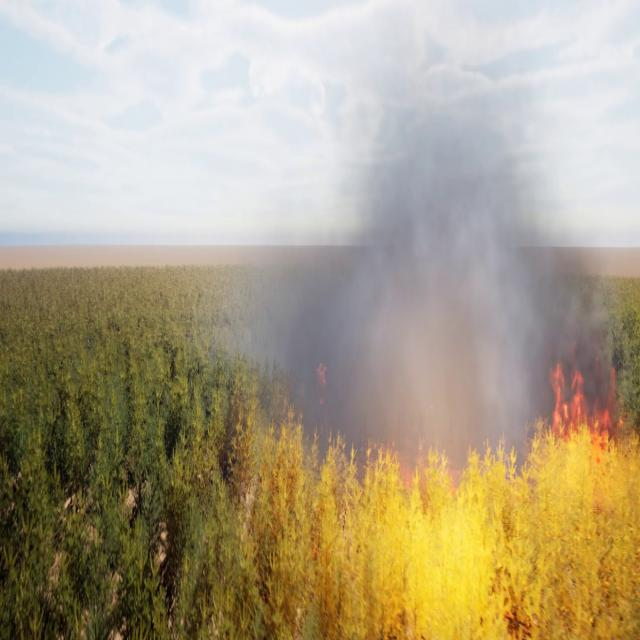fire: (344, 443, 636, 632), (550, 344, 624, 446)
smoke: (235, 26, 633, 477)
